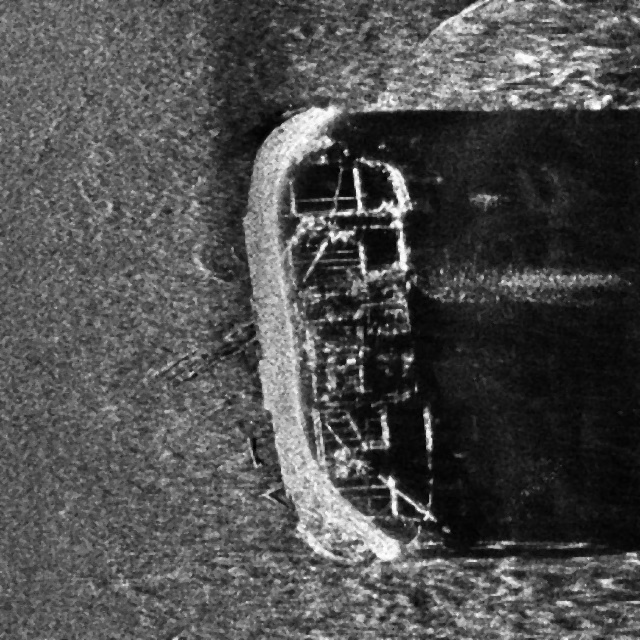Ship: (234, 96, 449, 575)
